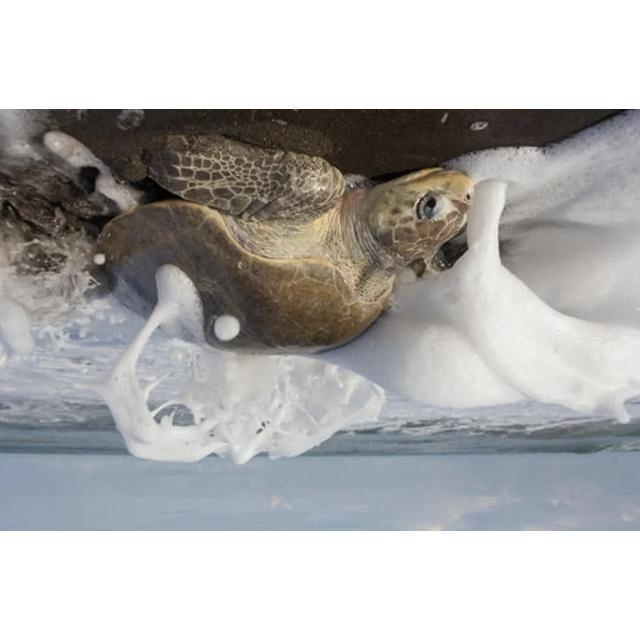turtle: (88, 132, 476, 356)
